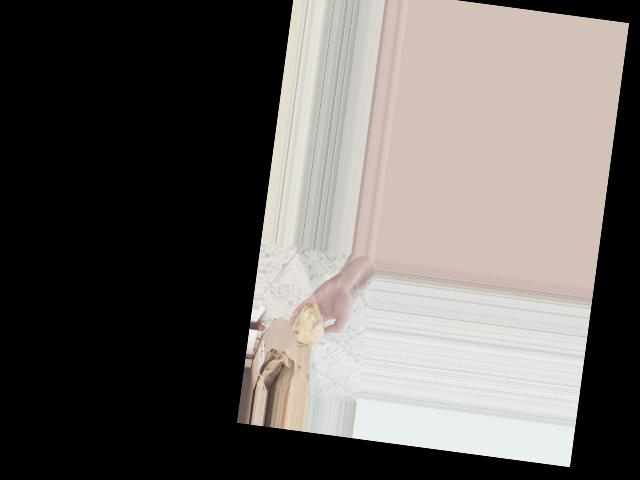onion: (288, 296, 330, 349)
